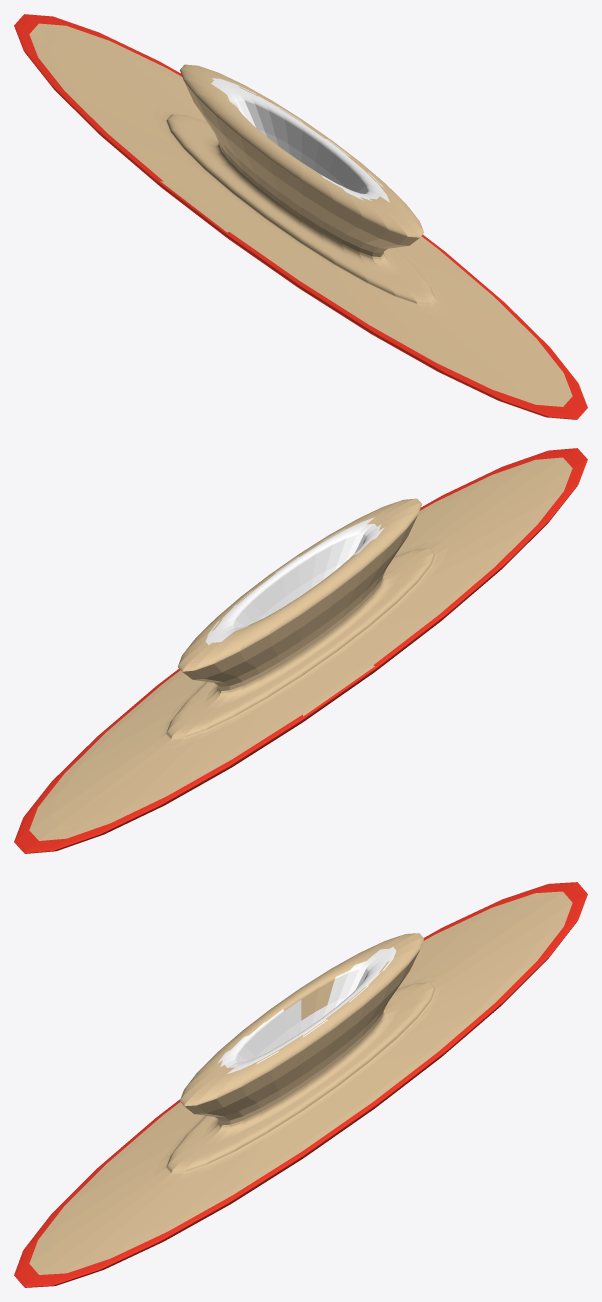
Rendered from cogu.obj.
3 renders of one model, top to bottom at view 1: azimuth 30°, elevation 25°; view 2: azimuth 150°, elevation 25°; view 3: azimuth 330°, elevation 25°, orthographic.
Parts seen in each view (by area): view 1: Amanitas; view 2: Amanitas; view 3: Amanitas.
Boxes of the visible parts, x1,y1,x2,y2 form: Amanitas: (14, 14, 587, 419); Amanitas: (14, 448, 587, 853); Amanitas: (14, 882, 587, 1287).
Size of the model in its own units: 106 by 62.92 by 668.
